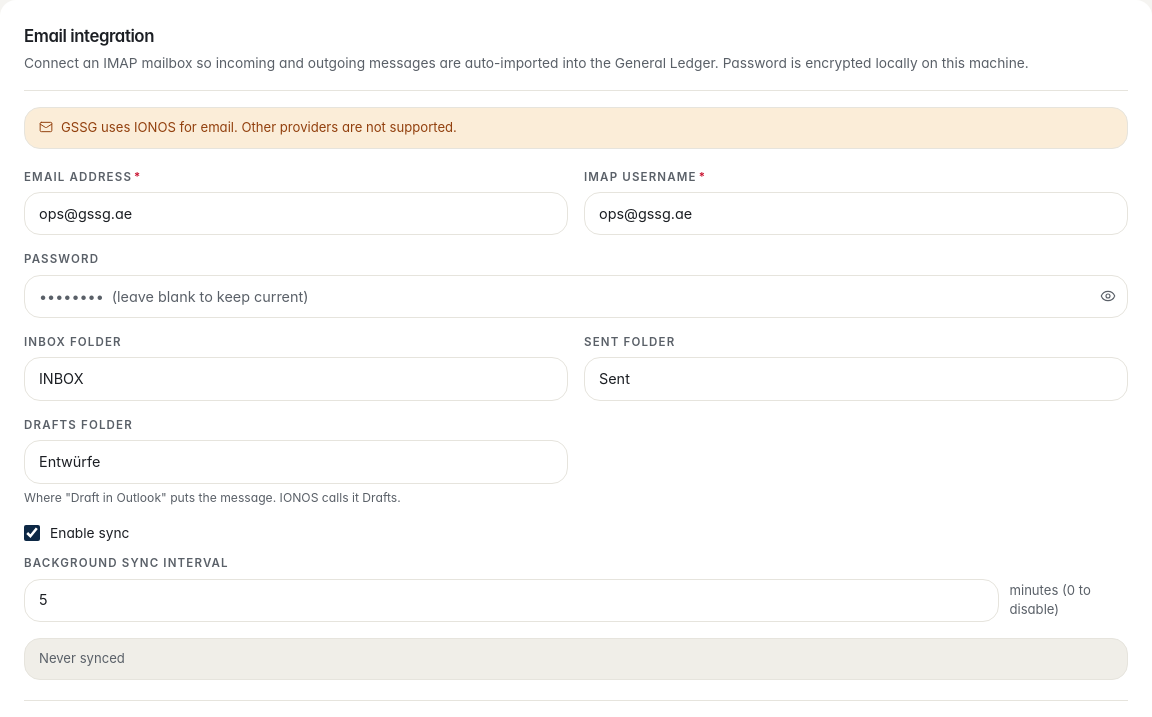
it: EmailSection account form › keeps edits made while a save is in flight
Replace the text in the field labelled "Drafts folder" with "Saved Drafts": [296, 462] box [24,440,568,484]
(page scrolled)
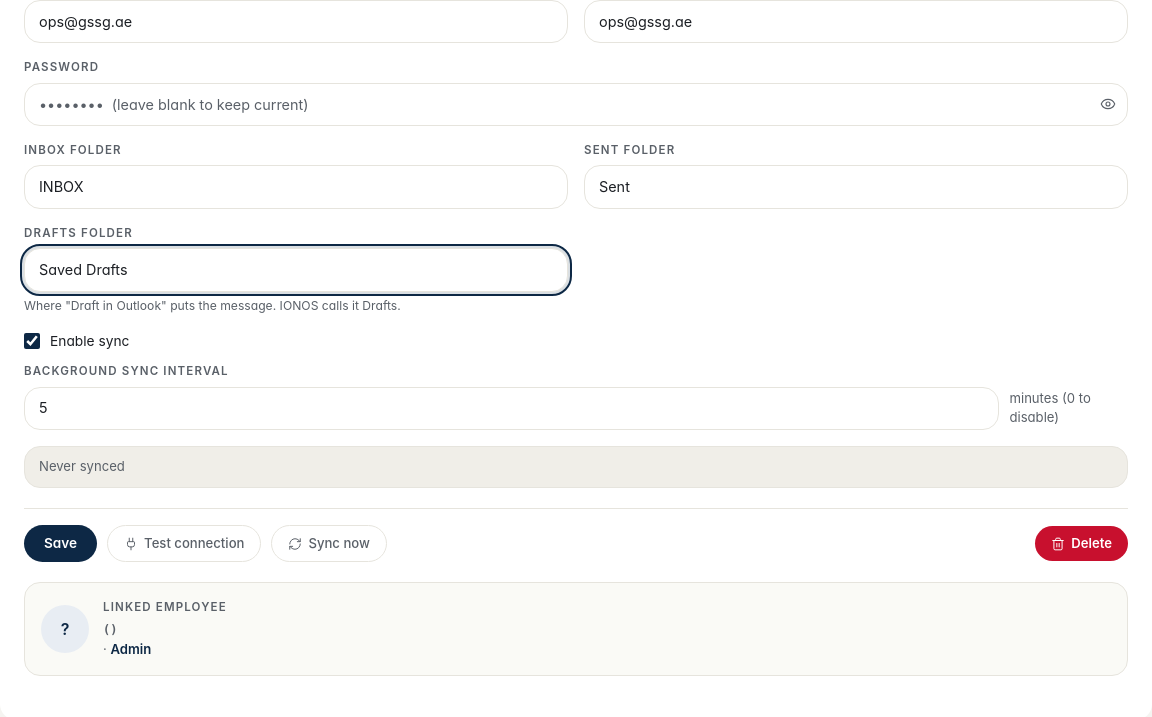
Click the button "Save": [61, 544] box [24,525,97,562]
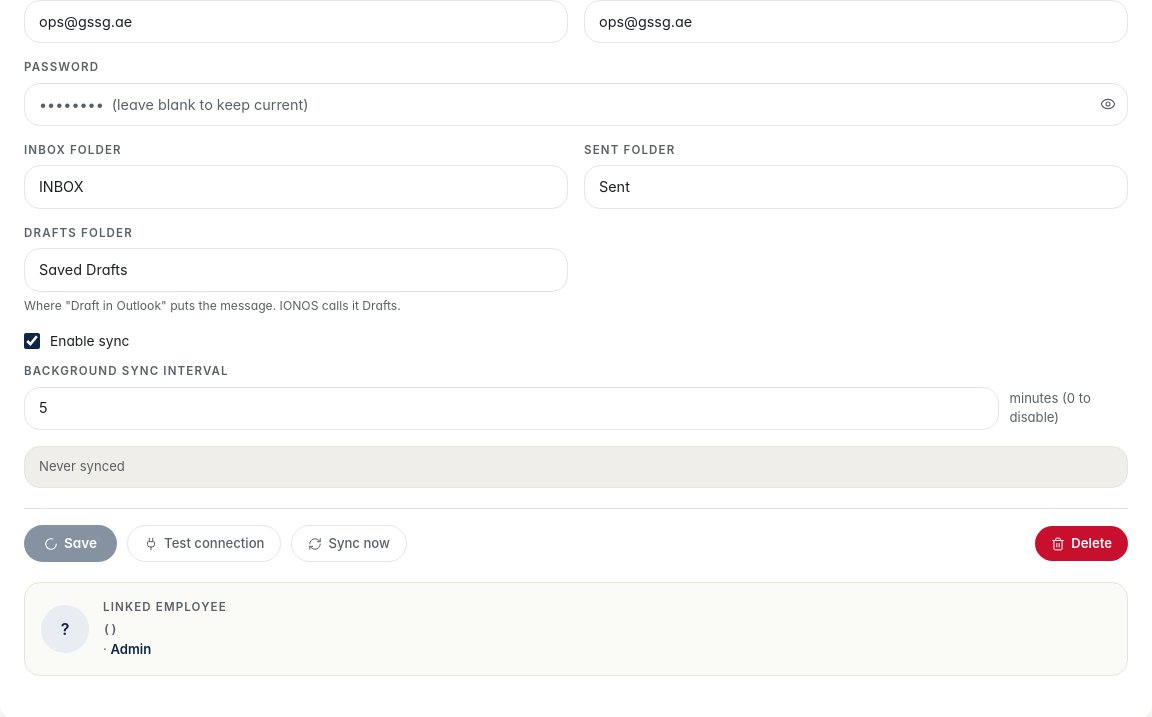
Replace the text in the field labelled "Drafts folder" with "Next Drafts": [296, 270] box [24,248,568,292]
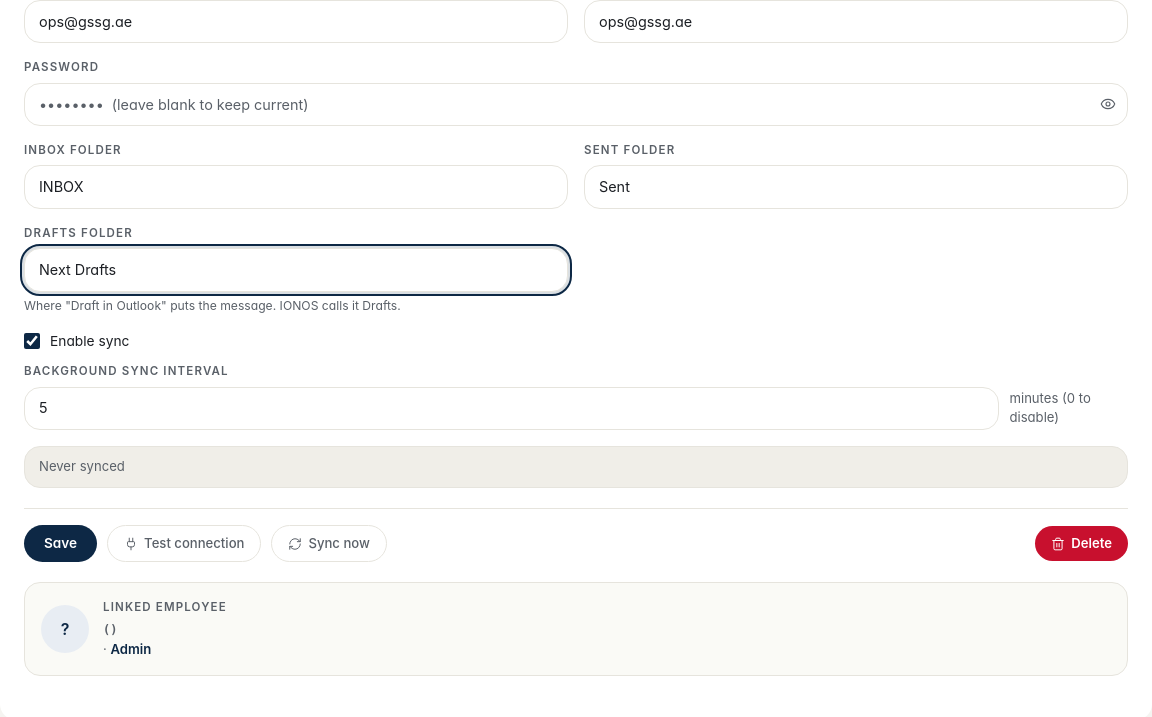
Check: the button "Save" is enabled, box [24,525,97,562]
